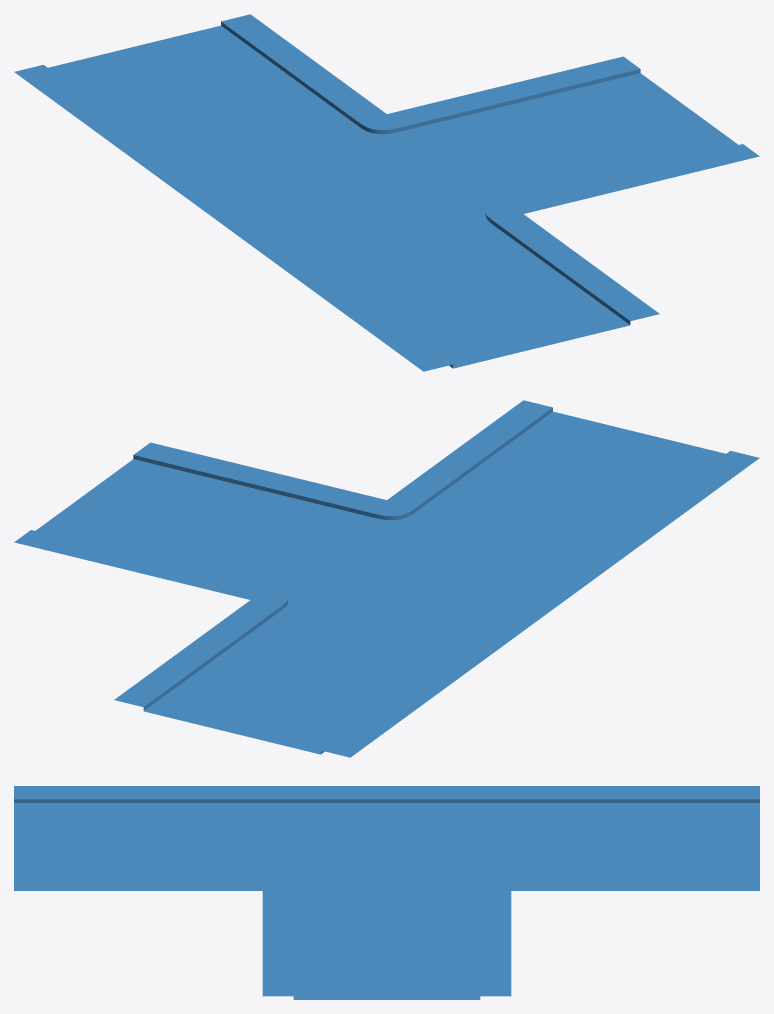
Rendered from Road_3Way_A.fbx.
3 views of the same model, one above another, from view 1: azimuth 30°, elevation 25°; view 2: azimuth 150°, elevation 25°; view 3: azimuth 270°, elevation 25° (orthographic). The views are drawn at different scales.
Visible parts, largest first — view 1: Road_3Way_A; view 2: Road_3Way_A; view 3: Road_3Way_A.
Part boxes in pixels (x1,y1,x2,y2): Road_3Way_A: [14, 14, 759, 371]; Road_3Way_A: [14, 400, 759, 757]; Road_3Way_A: [14, 786, 759, 999].
Bounding box in the file's own units: 1800 × 15 × 2700.
